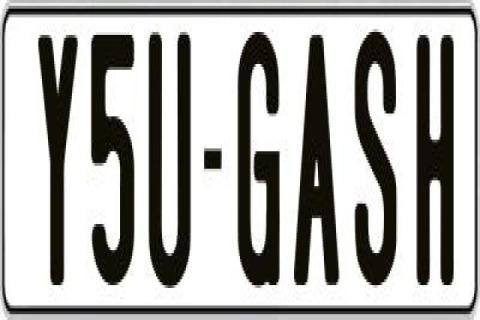0: (88, 29, 134, 282)
A: (292, 32, 342, 296)
G: (236, 23, 280, 280)
H: (413, 35, 453, 297)
S: (356, 23, 400, 291)
U: (146, 27, 192, 297)
Y: (35, 35, 77, 288)
